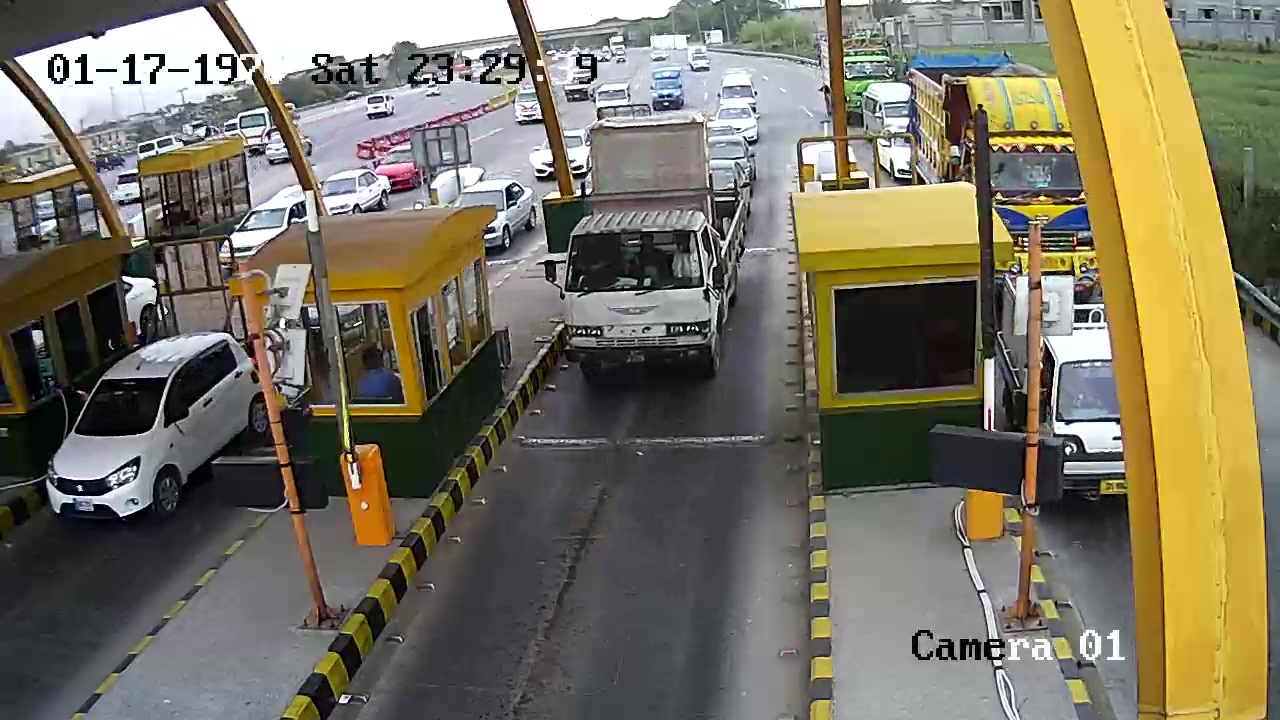F3: (553, 97, 749, 380)
